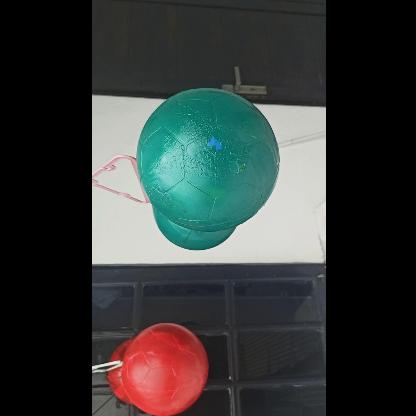red_ball: (111, 324, 206, 415)
